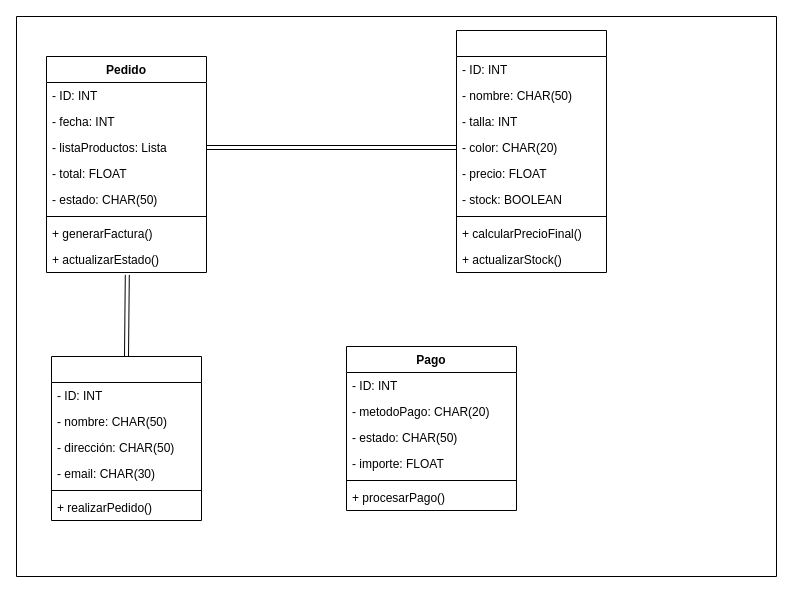
This 793x593 diagram has some shape labels left out. Here are the shapes that lost their labels. From the top down, the box of each, then its label:
(456, 30, 606, 272): Producto
(50, 356, 202, 520): Cliente
